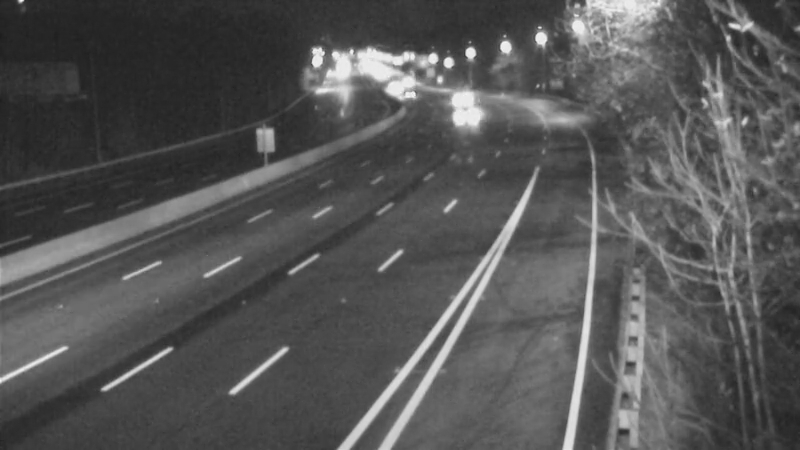vehicle: (367, 63, 417, 113), (385, 75, 435, 125), (429, 70, 479, 120), (446, 91, 496, 141)
